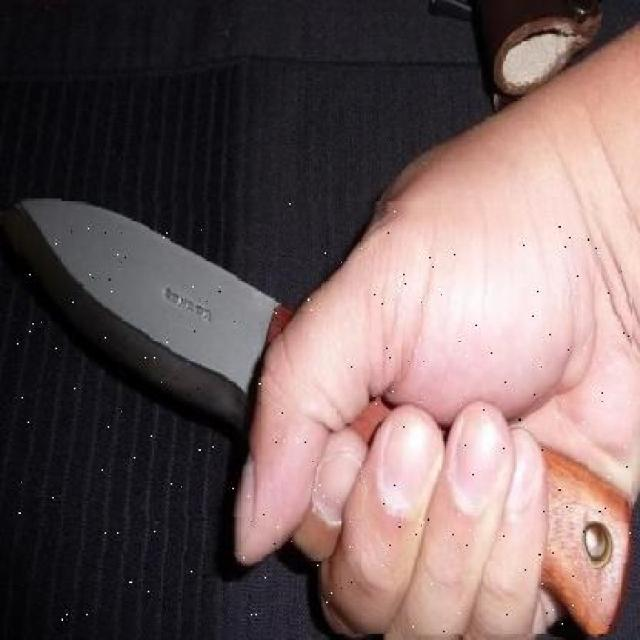knife: (13, 201, 632, 634)
